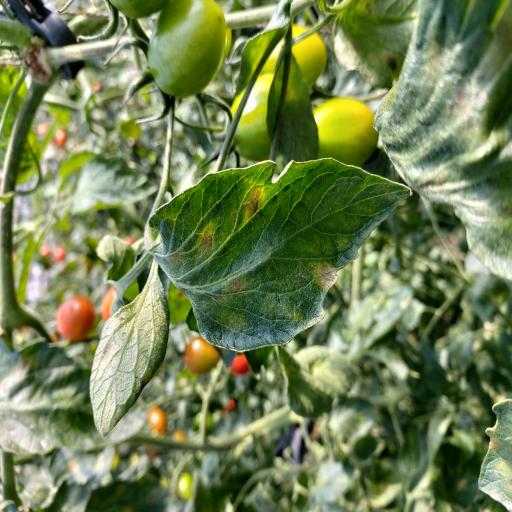disease_tomato: (151, 160, 413, 350)
